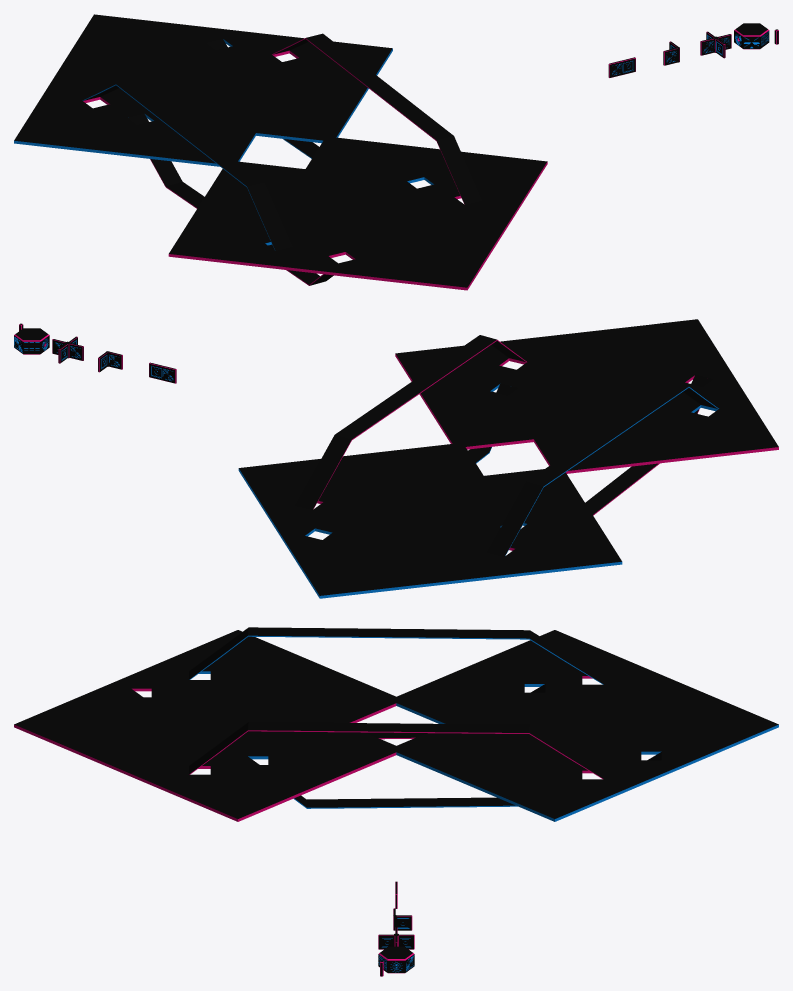
Rendered from Scenario.fbx.
3 views of the same model, one above another, from view 1: azimuth 30°, elevation 25°; view 2: azimuth 150°, elevation 25°; view 3: azimuth 270°, elevation 25° (orthographic). The views are drawn at different scales.
Parts seen in each view (by area): view 1: Escenario, Pasarela.Up, Pasarela.Uo.1, Pasarela.Sub, Obst.Hex, Esquina, Pasarela.Sub.1; view 2: Escenario, Pasarela.Uo.1, Pasarela.Up, Pasarela.Sub, Obst.Hex, Esquina; view 3: Escenario, Pasarela.Uo.1, Pasarela.Up, Pasarela.Sub.1, Obst.Hex.
Part boxes in pixels (bbox=[...]): Escenario: bbox=[14, 14, 547, 290]; Pasarela.Up: bbox=[82, 80, 292, 250]; Pasarela.Uo.1: bbox=[272, 33, 481, 204]; Pasarela.Sub: bbox=[127, 113, 333, 285]; Obst.Hex: bbox=[734, 23, 769, 49]; Esquina: bbox=[700, 31, 731, 58]; Pasarela.Sub.1: bbox=[206, 39, 319, 158]; Escenario: bbox=[238, 319, 778, 598]; Pasarela.Uo.1: bbox=[295, 335, 526, 509]; Pasarela.Up: bbox=[487, 382, 718, 556]; Pasarela.Sub: bbox=[585, 375, 711, 515]; Obst.Hex: bbox=[14, 328, 49, 354]; Esquina: bbox=[52, 336, 83, 363]; Escenario: bbox=[14, 630, 778, 821]; Pasarela.Uo.1: bbox=[189, 722, 603, 779]; Pasarela.Up: bbox=[189, 627, 603, 684]; Pasarela.Sub.1: bbox=[247, 752, 661, 808]; Obst.Hex: bbox=[378, 946, 414, 973].
Size of the model in its own units: 508 by 62.52 by 483.
